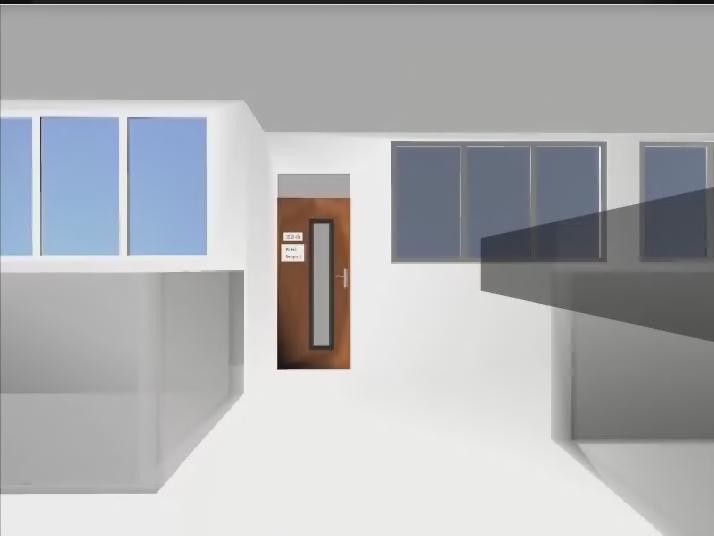door: (278, 198, 350, 369)
